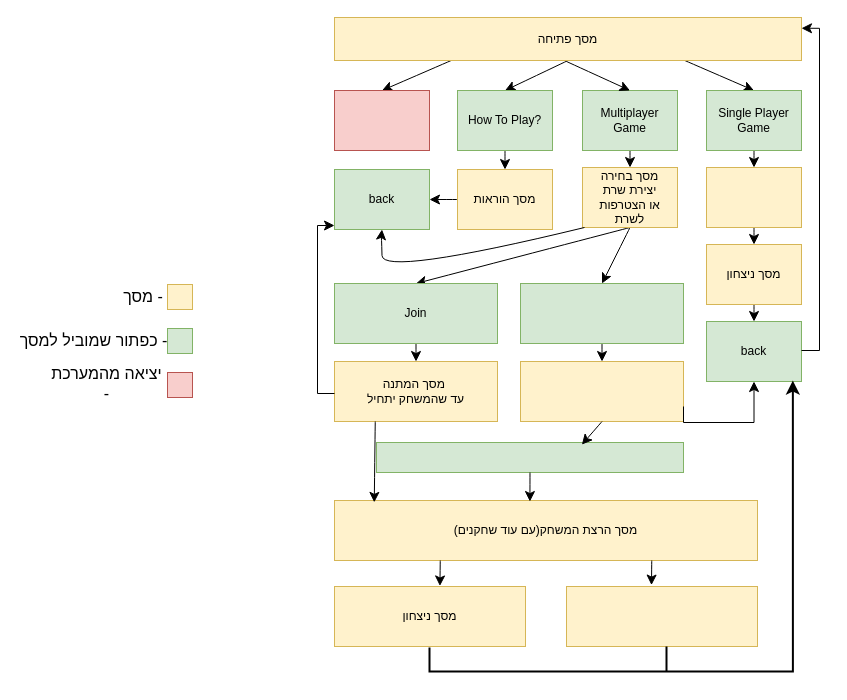
The diagram is 847 pixels wide and 700 high, and some of its shapes have lost their labels. Each missing label, with the box of its shape:
create room: (520, 282, 684, 344)
Quit: (334, 90, 430, 150)
Start: (376, 442, 684, 472)
מסך בעל השרת: (520, 360, 684, 422)
מסך הפסד: (566, 586, 758, 646)
מסך הרצת המשחק: (706, 166, 802, 228)
